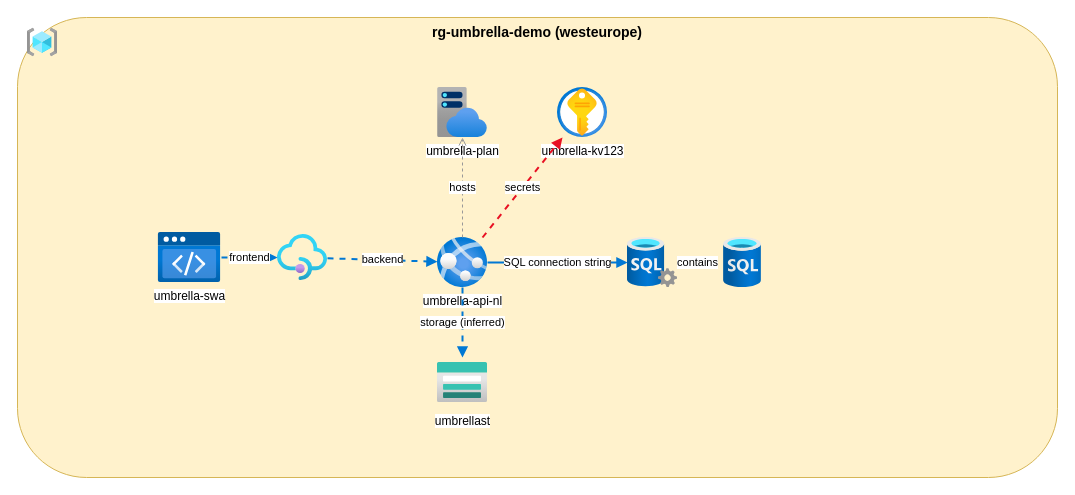
Some shapes in this 1075 by 495 pixel diagram are drawn without their labels. Here are the shapes that lost their labels. From the top down, the box of each, then its label:
(277, 232, 327, 282): umbrella-apim
(627, 237, 677, 287): umbrella-sql
(717, 237, 767, 287): UmbrellaDb
